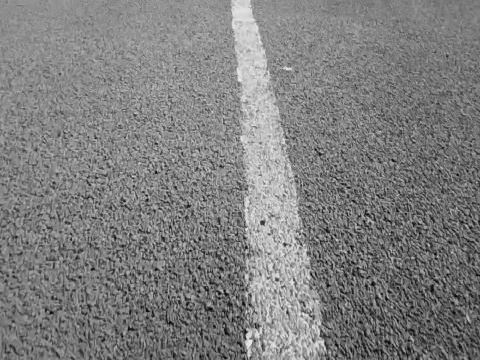Lines: (229, 0, 330, 360)
